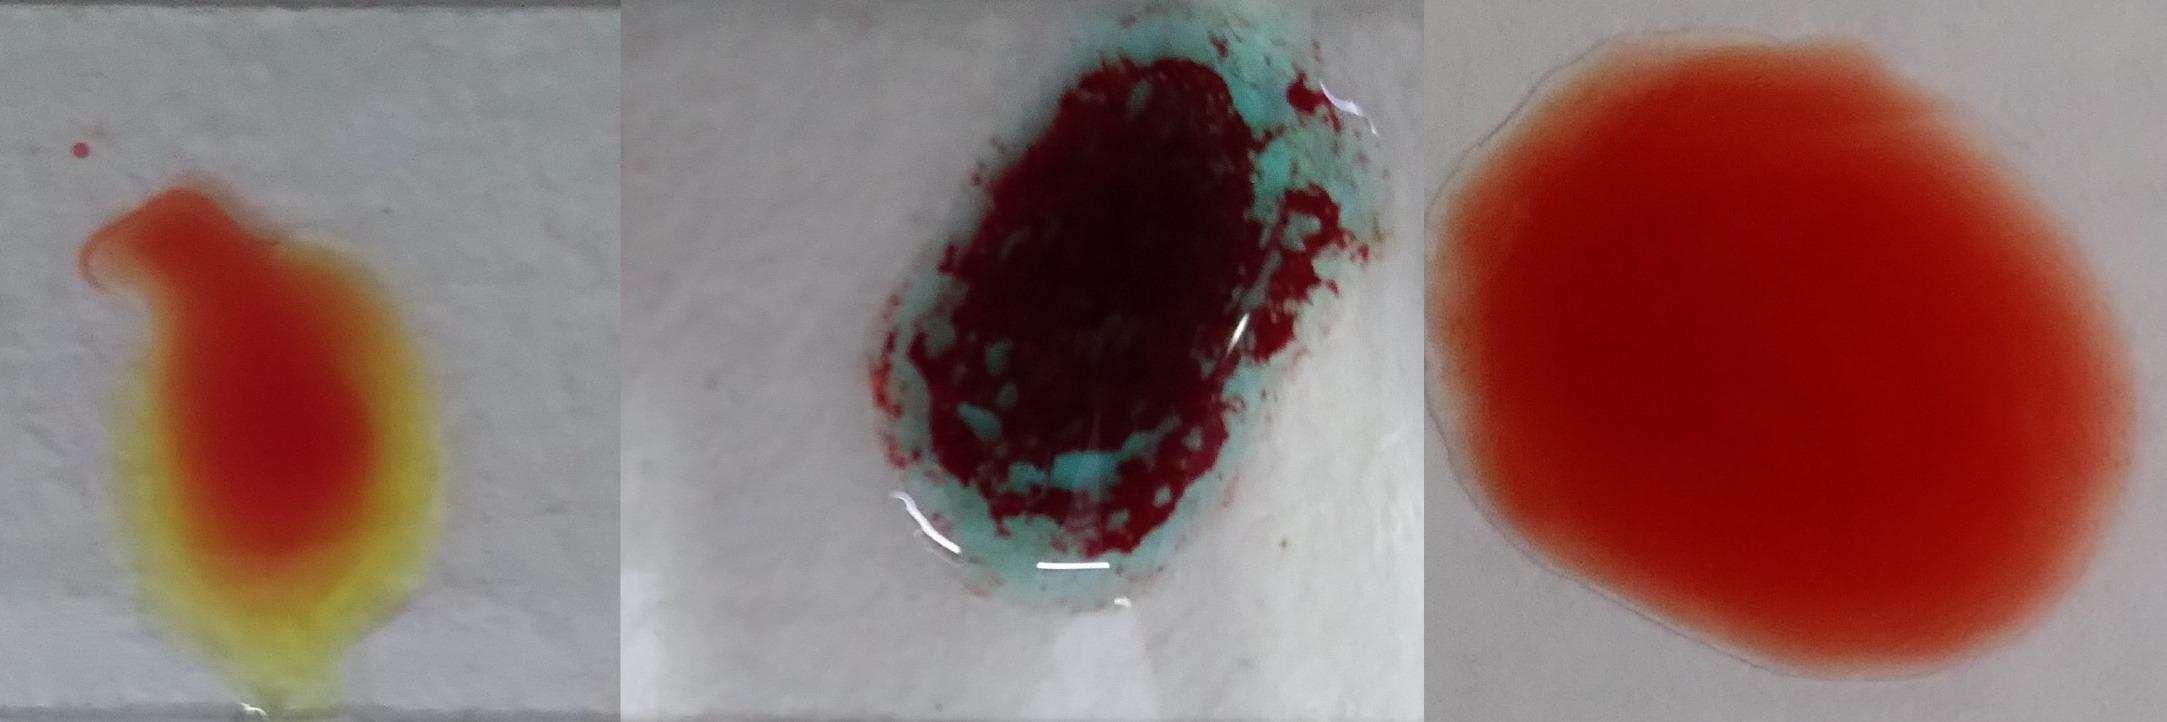A: (904, 7, 1335, 584)
